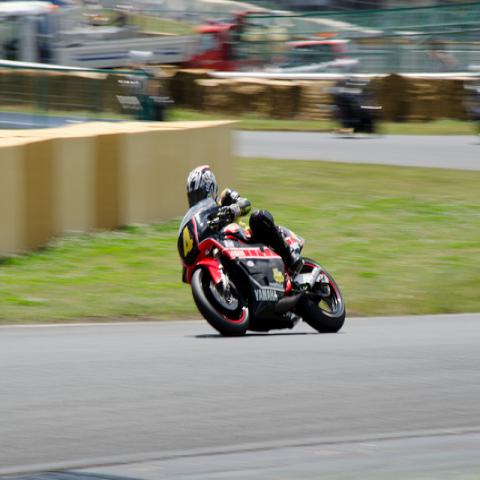motorcycle: (177, 196, 346, 337)
truck: (179, 10, 363, 73)
